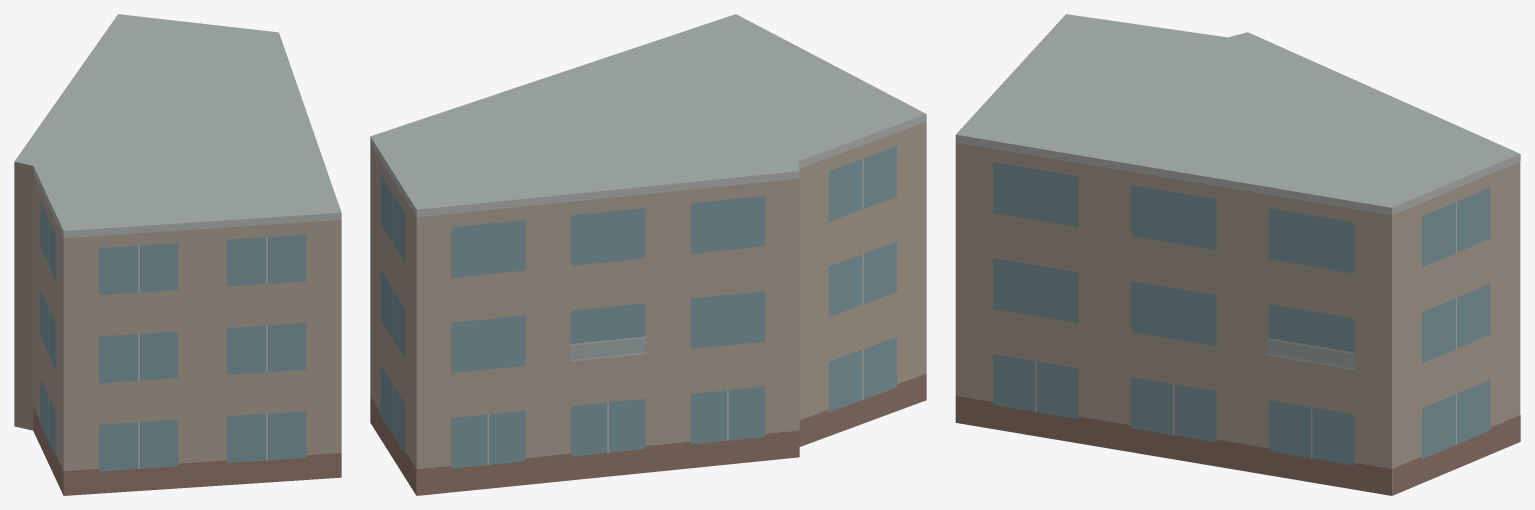
File: survey-upis-32522654.glb
The picture shows the model from 3 angles, left to right: view 1: azimuth 30°, elevation 25°; view 2: azimuth 150°, elevation 25°; view 3: azimuth 270°, elevation 25°; orthographic projection. The views are drawn at different scales.
Visible parts, largest first — view 1: survey-upis-32522654.tmp; view 2: survey-upis-32522654.tmp; view 3: survey-upis-32522654.tmp.
Part boxes in pixels (bbox=[...]): survey-upis-32522654.tmp: bbox=[14, 14, 341, 495]; survey-upis-32522654.tmp: bbox=[370, 14, 926, 495]; survey-upis-32522654.tmp: bbox=[955, 14, 1520, 495].
Bounding box in the file's own units: 13.21 × 9.15 × 16.27.
